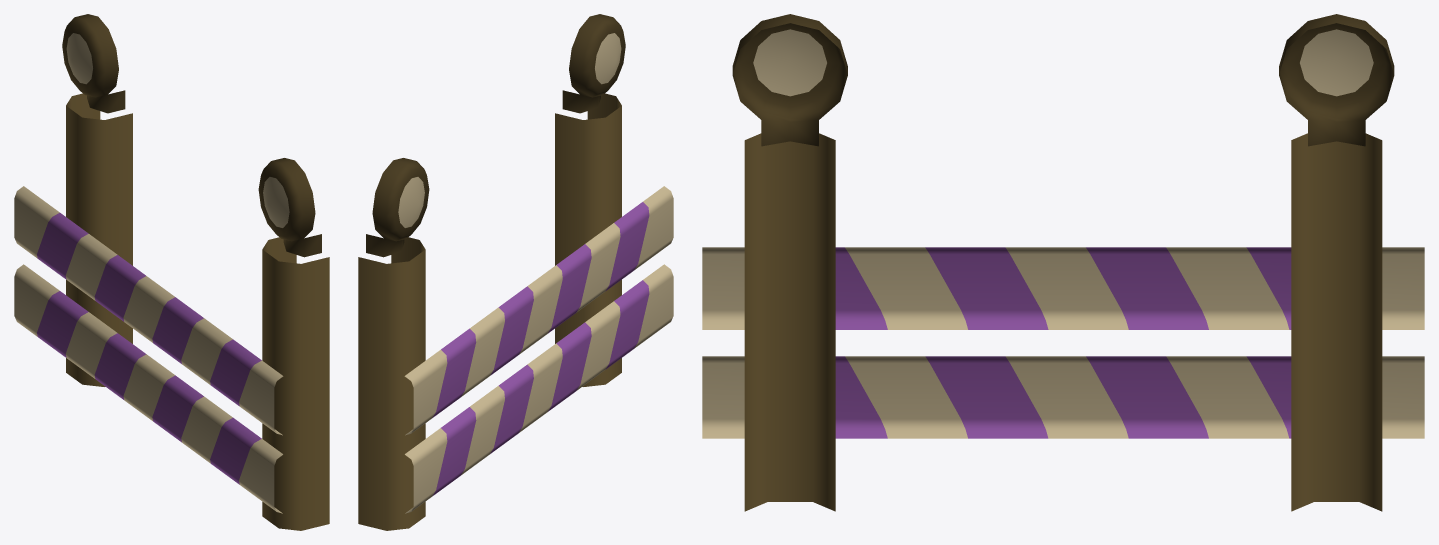
File: ChocolateBarricade_low_MDL.fbx
3 renders of one model, left to right at view 1: azimuth 30°, elevation 25°; view 2: azimuth 150°, elevation 25°; view 3: azimuth 270°, elevation 25°, orthographic. The views are drawn at different scales.
Visible parts, largest first — view 1: barricade_full_GEO; view 2: barricade_full_GEO; view 3: barricade_full_GEO.
Part boxes in pixels (box(x1,y1,x2,y2)): barricade_full_GEO: box(14, 14, 329, 530); barricade_full_GEO: box(358, 14, 673, 530); barricade_full_GEO: box(702, 14, 1424, 511).
Size of the model in its own units: 41.46 by 200 by 264.
